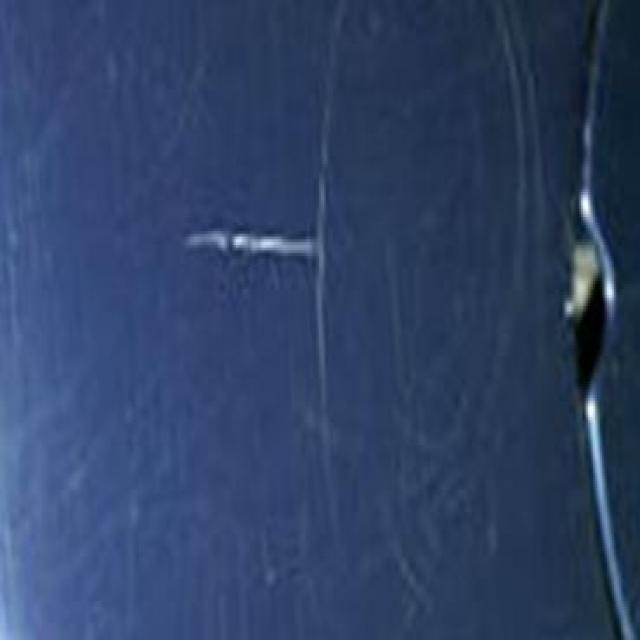scratch: (184, 212, 320, 276)
